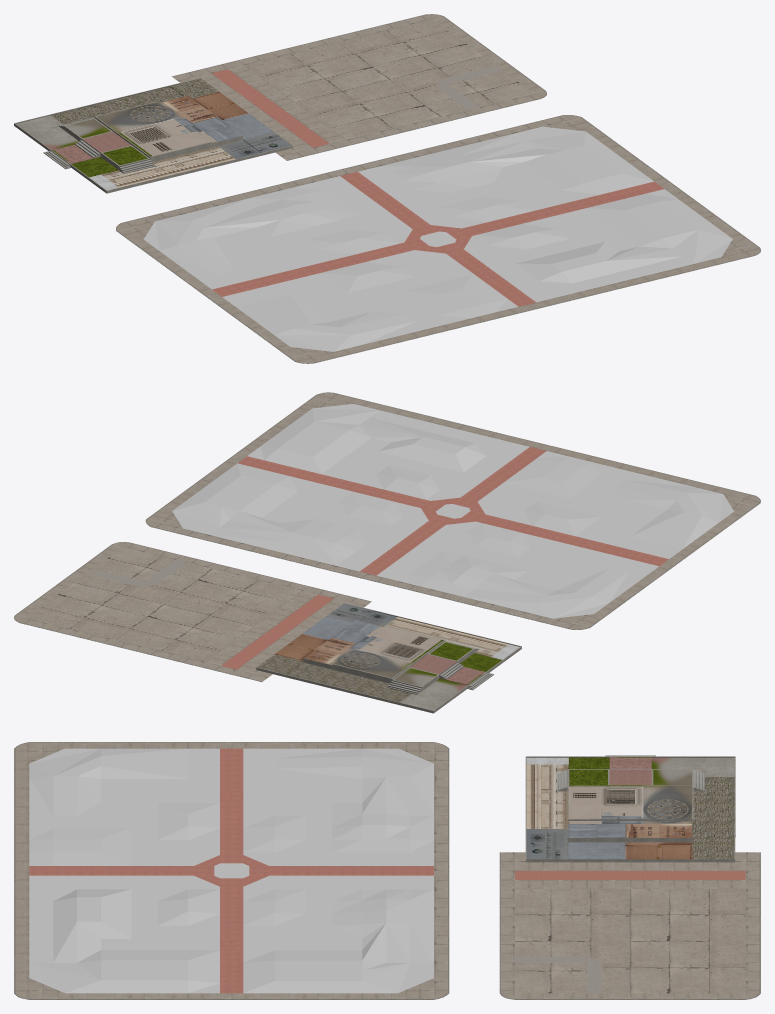
File: Grass_and_Pathway.fbx
The picture shows the model from 3 angles, top to bottom: view 1: azimuth 30°, elevation 25°; view 2: azimuth 150°, elevation 25°; view 3: azimuth 270°, elevation 25°; orthographic projection. The views are drawn at different scales.
Parts seen in each view (by area): view 1: polySurface9, City_Market_01:Graden_Pathway, City_Market_01:Grass_02, City_Market_01:Grass_01, City_Market_01:Sidewalk, City_Market_01:polySurface6; view 2: polySurface9, City_Market_01:Graden_Pathway, City_Market_01:Grass_02, City_Market_01:Grass_01, City_Market_01:Sidewalk, City_Market_01:polySurface6; view 3: polySurface9, City_Market_01:Graden_Pathway, City_Market_01:Grass_02, City_Market_01:Grass_01, City_Market_01:Sidewalk, City_Market_01:polySurface6.
Part boxes in pixels (box(x1,y1,x2,y2)): polySurface9: box(143, 126, 732, 351); City_Market_01:Graden_Pathway: box(116, 115, 760, 363); City_Market_01:Grass_02: box(245, 19, 533, 139); City_Market_01:Grass_01: box(16, 78, 291, 190); City_Market_01:Sidewalk: box(171, 14, 546, 160); City_Market_01:polySurface6: box(14, 78, 292, 193); polySurface9: box(172, 404, 734, 618); City_Market_01:Graden_Pathway: box(145, 392, 760, 629); City_Market_01:Grass_02: box(26, 547, 301, 661); City_Market_01:Grass_01: box(257, 603, 519, 710); City_Market_01:Sidewalk: box(14, 542, 371, 681); City_Market_01:polySurface6: box(256, 603, 521, 713); polySurface9: box(29, 748, 433, 993); City_Market_01:Graden_Pathway: box(14, 742, 449, 999); City_Market_01:Grass_02: box(515, 889, 745, 993); City_Market_01:Grass_01: box(526, 757, 734, 859); City_Market_01:Sidewalk: box(499, 852, 760, 999); City_Market_01:polySurface6: box(525, 755, 735, 862).
Bounding box in the file's own units: 124 × 2.01 × 152.
